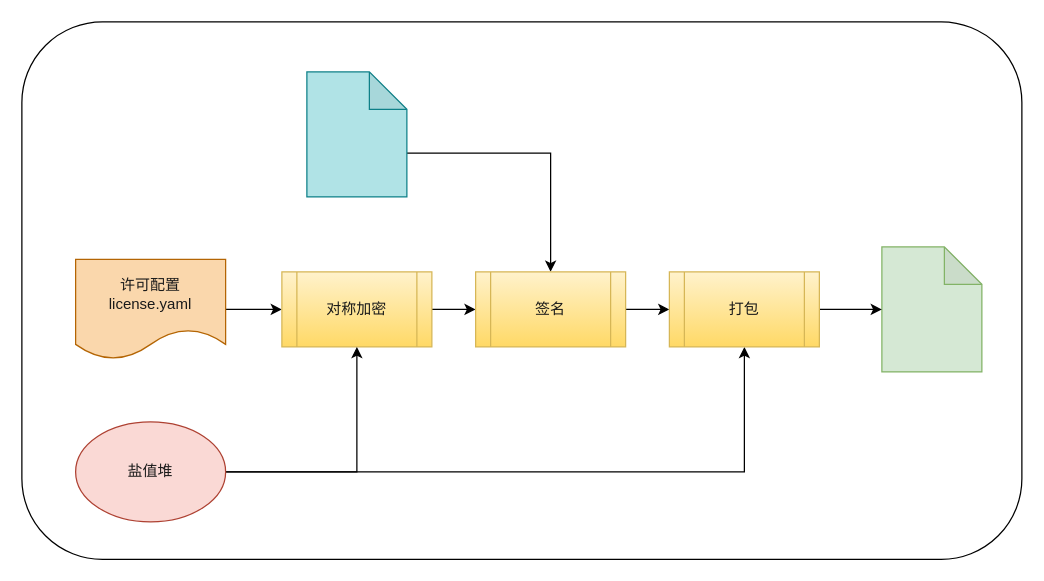
Image size: 1044x581. Some labels were removed from this diagram. The centre of each missing label's shape, as x and y in pixels:
License: point 931,309
私钥 private.key: point 356,134
